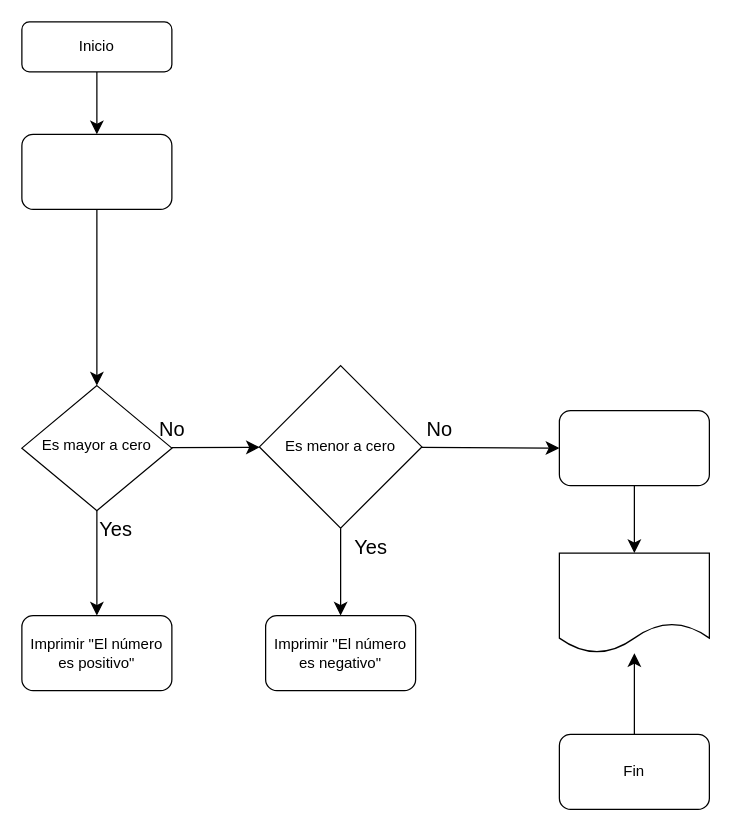
Image size: 731x831. Some labels were removed from this diagram. The shapes that lost their labels are listed below. From the top down, each one's centre as x and y in pixels, then its label:
the point at 96,171: Solicitar ingreso de número
the point at 633,447: Imprimir "El número es 0"
the point at 633,602: Imprimir negativo y positivo
